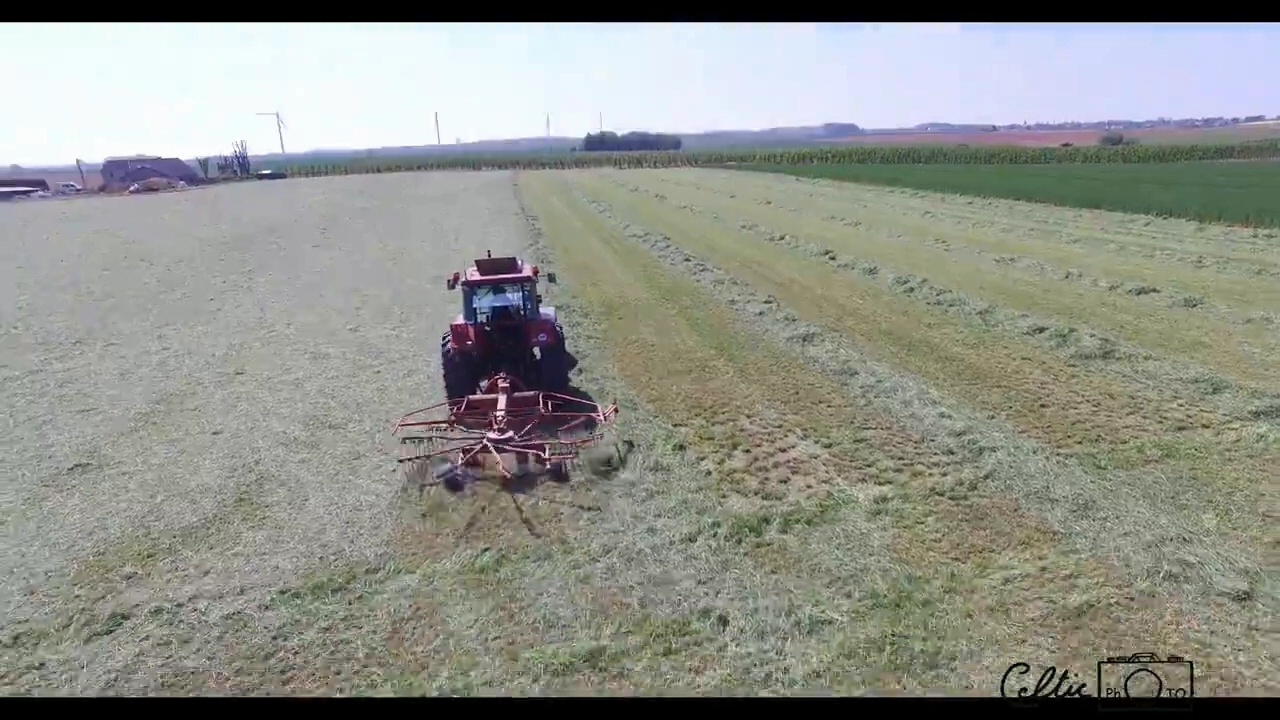traktor: (430, 246, 562, 407)
